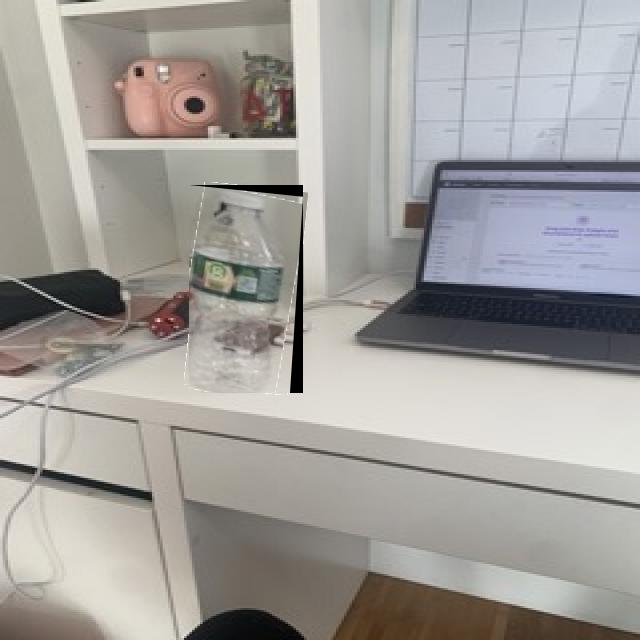water_bottle: (189, 185, 303, 393)
